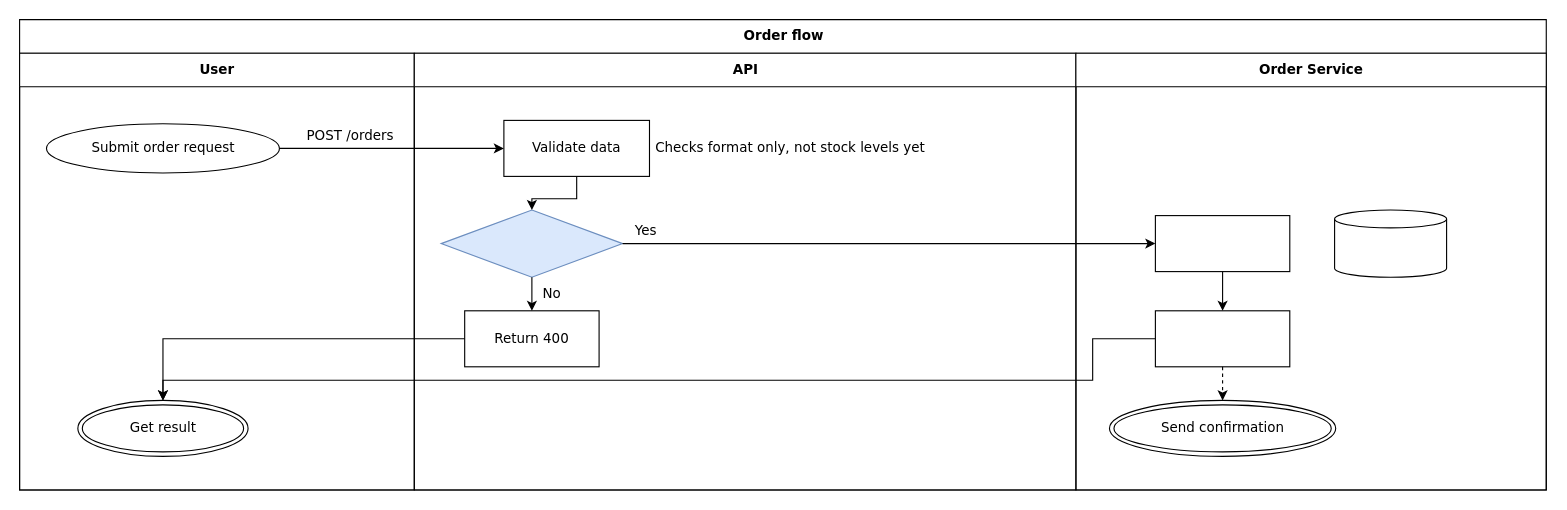
The diagram is 1567 pixels wide and 510 high, and some of its shapes have lost their labels. The centre of each missing label's shape, as x and y in pixels:
"Create order" belongs at point 1222,243.
"Data valid?" belongs at point 531,243.
"DB.ORDER" belongs at point 1390,243.
"Return result" belongs at point 1222,338.
